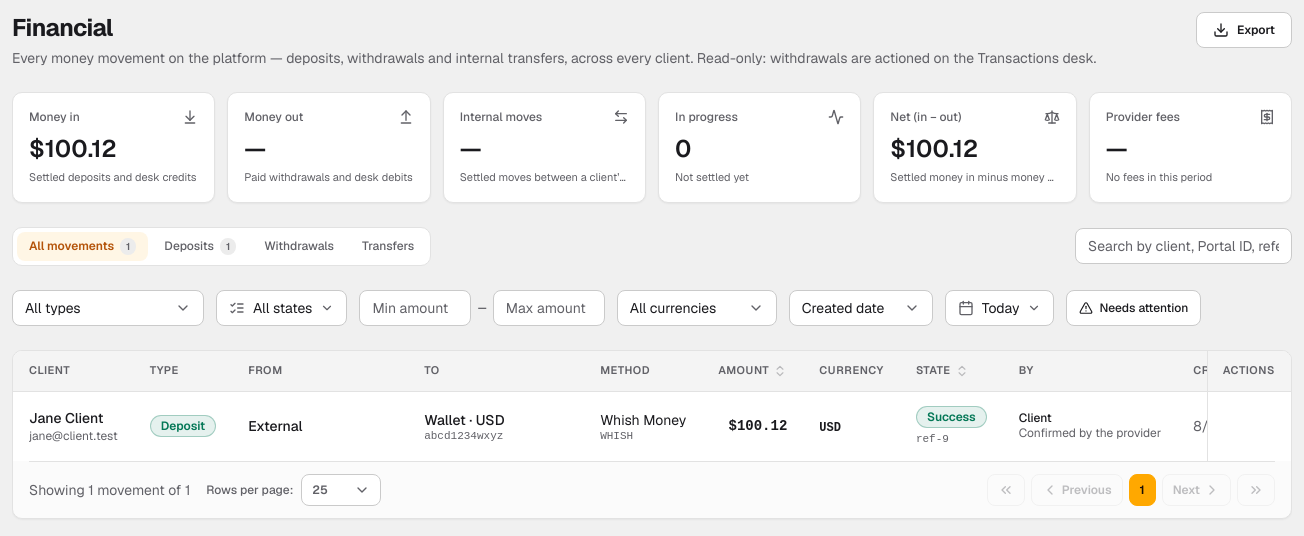
Test case: every filter asks the server › currency options come from the currencies endpoint, not the rows
Expected: the text "jane@client.test" is shown, top-left (29, 428), bottom-right (118, 444)
Click the dropdown named "Currency". click: (697, 308)
box: top-left (617, 290), bottom-right (777, 326)
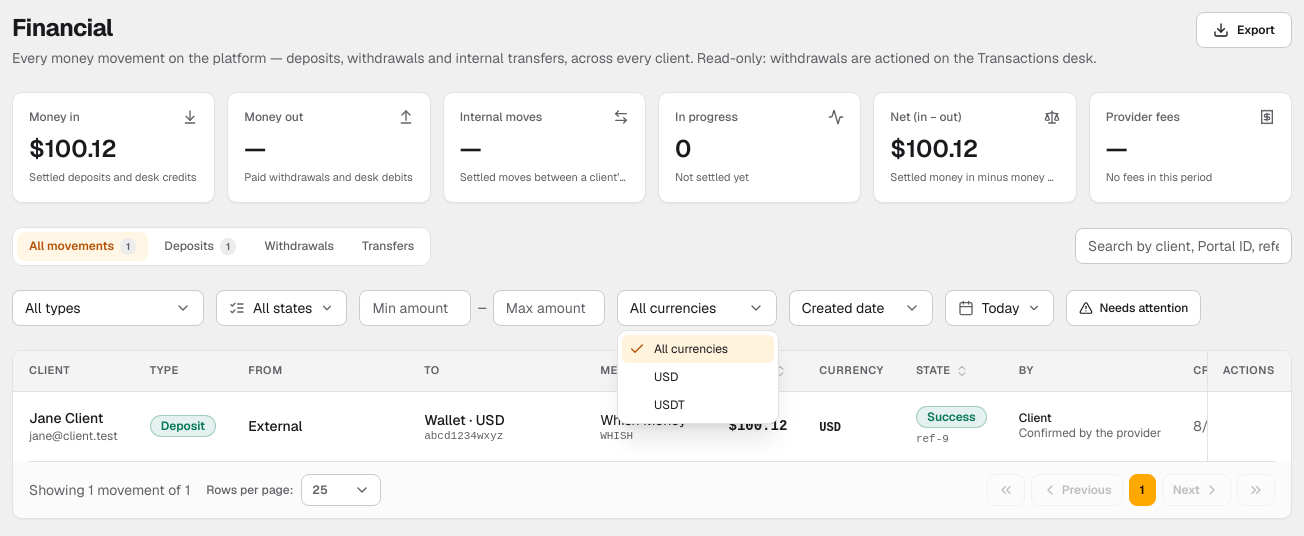
Result: the option "USDT" is shown
Click the option "USDT". click: (669, 405)
box: top-left (654, 397), bottom-right (685, 413)
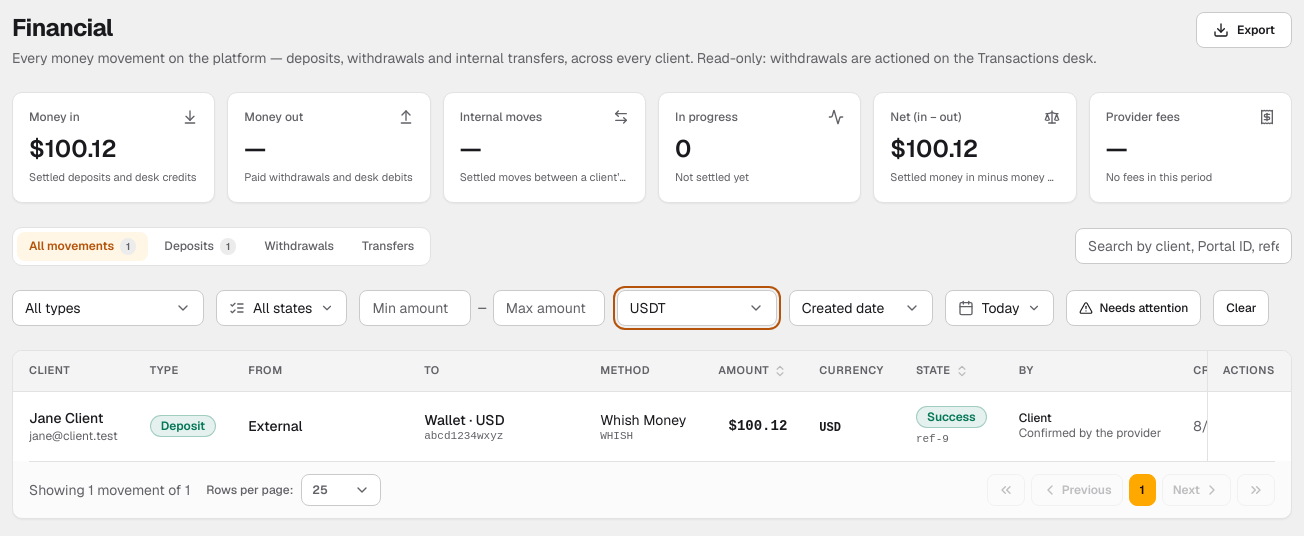
Result: the text "USDT" is shown at top-left (630, 298), bottom-right (666, 318)
